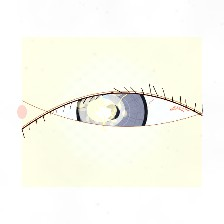corneal_ulcer: (77, 91, 126, 130)
